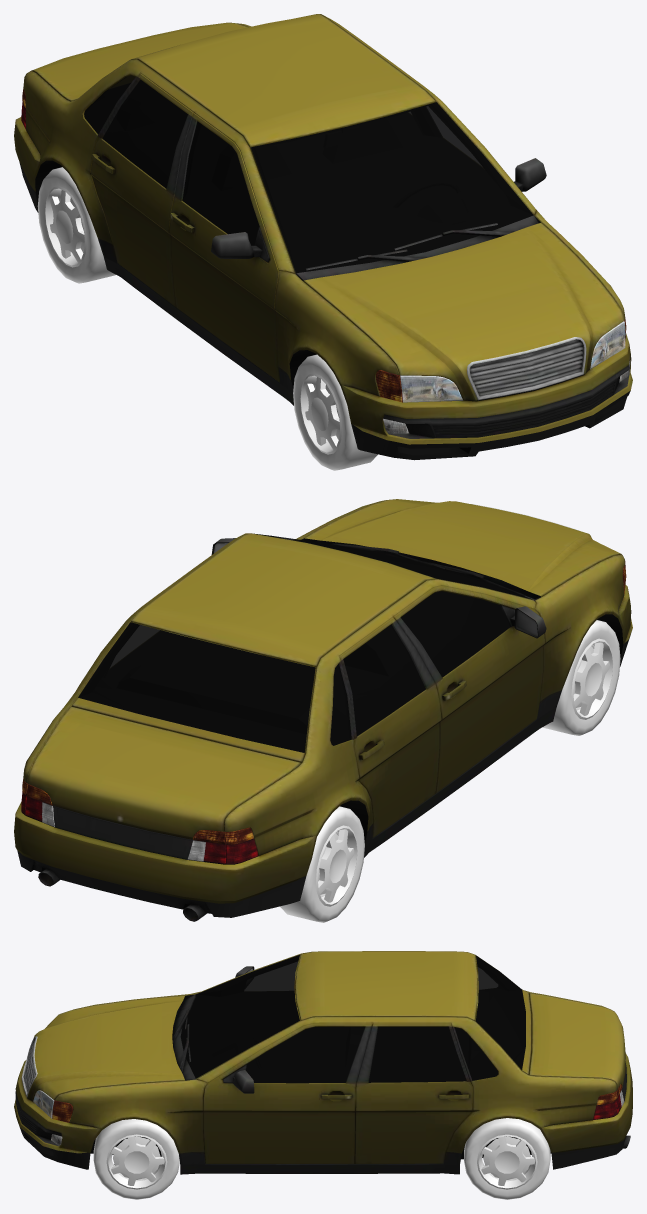
Rendered from car_sedan.glb.
3 renders of one model, top to bottom at view 1: azimuth 30°, elevation 25°; view 2: azimuth 150°, elevation 25°; view 3: azimuth 270°, elevation 25°, orthographic. The views are drawn at different scales.
Visible parts, largest first — view 1: Sedan Body_Body_0, Sedan Body_Glass_0, Wheel_A002_Wheel_0, Wheel_A003_Wheel_0, Sedan Body_Optics_0; view 2: Sedan Body_Body_0, Sedan Body_Glass_0, Wheel_A003_Wheel_0, Wheel_A002_Wheel_0, Sedan Body_Optics_0; view 3: Sedan Body_Body_0, Sedan Body_Glass_0, Wheel_A001_Wheel_0, Wheel_A_Wheel_0, Sedan Body_Optics_0.
Boxes of the visible parts, bbox=[...] form: Sedan Body_Body_0: bbox=[14, 14, 632, 460]; Sedan Body_Glass_0: bbox=[84, 75, 533, 273]; Wheel_A002_Wheel_0: bbox=[293, 354, 377, 470]; Wheel_A003_Wheel_0: bbox=[37, 167, 115, 283]; Sedan Body_Optics_0: bbox=[21, 89, 630, 434]; Sedan Body_Body_0: bbox=[14, 499, 632, 921]; Sedan Body_Glass_0: bbox=[78, 533, 531, 752]; Wheel_A003_Wheel_0: bbox=[280, 806, 364, 922]; Wheel_A002_Wheel_0: bbox=[542, 620, 620, 735]; Sedan Body_Optics_0: bbox=[21, 561, 626, 864]; Sedan Body_Body_0: bbox=[14, 951, 632, 1174]; Sedan Body_Glass_0: bbox=[180, 955, 525, 1083]; Wheel_A001_Wheel_0: bbox=[464, 1118, 550, 1199]; Wheel_A_Wheel_0: bbox=[93, 1119, 179, 1199]; Sedan Body_Optics_0: bbox=[33, 1084, 624, 1145].
Bounding box in the file's own units: 2.12 × 1.46 × 4.75.
Materials: 4 (2 with a texture image).
